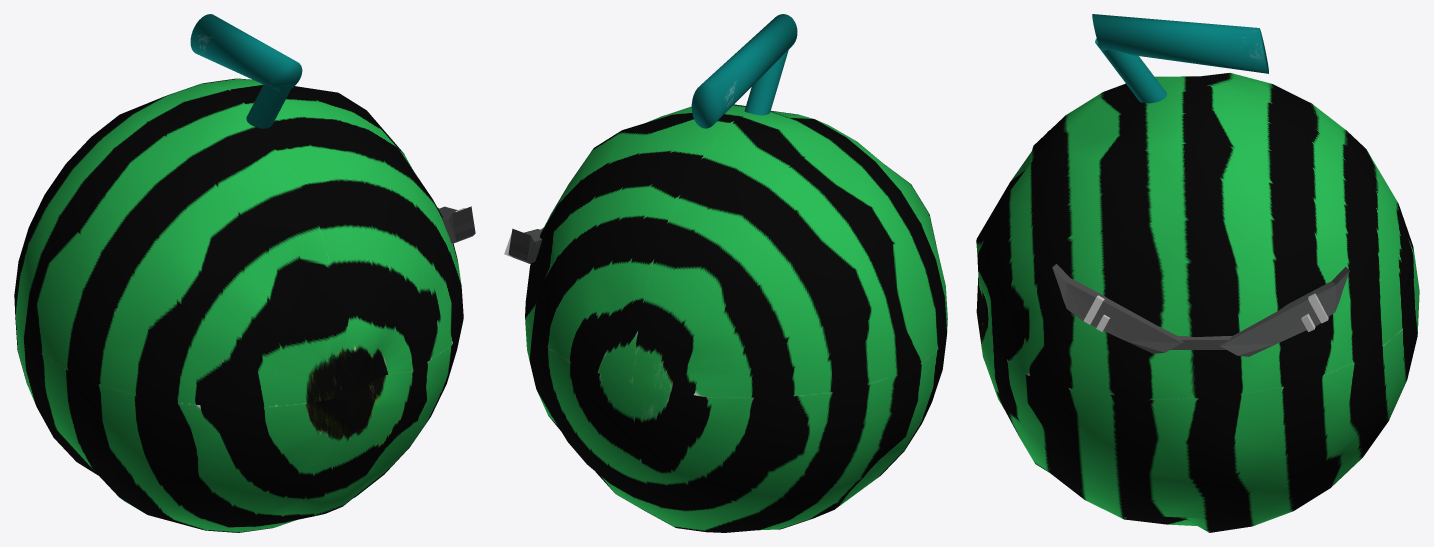
File: suican.obj
The picture shows the model from 3 angles, left to right: view 1: azimuth 30°, elevation 25°; view 2: azimuth 150°, elevation 25°; view 3: azimuth 270°, elevation 25°; orthographic projection. The views are drawn at different scales.
Parts seen in each view (by area): view 1: 立方体.001; view 2: 立方体.001; view 3: 立方体.001.
Boxes of the visible parts, <box> form: 立方体.001: <box>14,14,475,532</box>; 立方体.001: <box>504,14,947,532</box>; 立方体.001: <box>976,14,1419,532</box>.
Size of the model in its own units: 0.5412 by 0.641 by 0.5187.
1 material, 1 textured.
